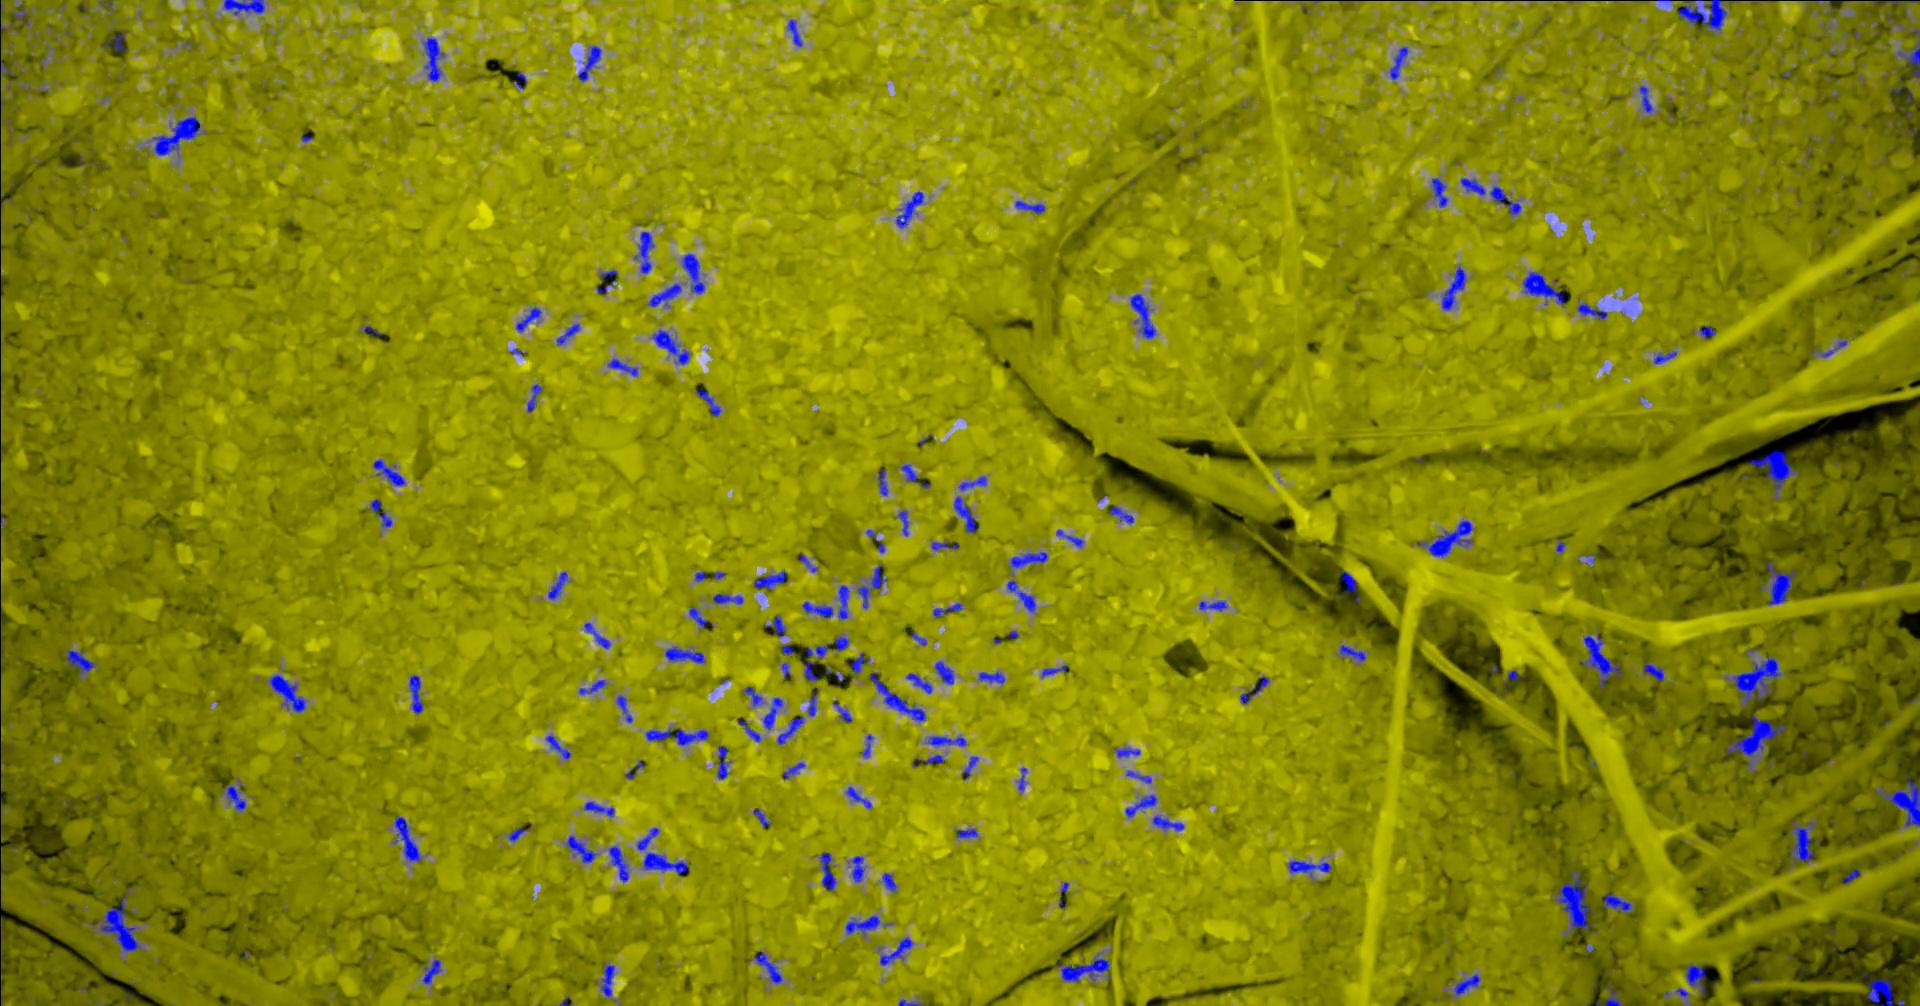ant: (1724, 715, 1785, 766), (869, 672, 924, 721), (97, 889, 141, 951), (1749, 448, 1796, 499), (1873, 775, 1919, 827), (1460, 177, 1521, 215), (1578, 634, 1622, 687), (1418, 518, 1472, 558), (152, 116, 199, 155), (1677, 0, 1735, 30), (1057, 950, 1110, 981), (1759, 561, 1796, 605), (265, 674, 306, 713), (1523, 271, 1564, 304), (392, 815, 422, 862), (651, 329, 690, 365), (856, 564, 886, 608), (1129, 293, 1156, 339), (645, 728, 709, 746), (1789, 821, 1815, 864), (1441, 265, 1465, 310), (1897, 28, 1919, 77), (895, 191, 923, 227), (1865, 978, 1903, 1005), (643, 852, 688, 874), (952, 495, 978, 533), (1006, 579, 1035, 612), (753, 951, 782, 984), (422, 37, 443, 81), (681, 253, 703, 293), (372, 459, 405, 486), (564, 835, 597, 862), (879, 937, 912, 965), (632, 231, 654, 273), (65, 649, 95, 677), (577, 44, 599, 81), (1239, 674, 1269, 702), (1008, 551, 1048, 572), (0, 36, 18, 80), (646, 283, 681, 306), (608, 845, 629, 882), (776, 716, 803, 744), (695, 387, 720, 417), (1125, 794, 1156, 817), (844, 915, 879, 935), (1869, 0, 1919, 14), (1810, 339, 1848, 357), (753, 570, 789, 589), (583, 622, 610, 648), (762, 697, 782, 730), (370, 498, 392, 527), (1288, 860, 1331, 875), (1603, 892, 1633, 913), (1684, 964, 1705, 995), (664, 647, 703, 663), (516, 306, 541, 332), (819, 852, 836, 890), (223, 0, 264, 15), (545, 735, 570, 760), (1340, 570, 1359, 602), (1453, 973, 1481, 995), (1389, 46, 1407, 79), (408, 674, 423, 713), (905, 672, 932, 694), (223, 784, 245, 810), (547, 572, 568, 600), (1430, 177, 1448, 207), (607, 358, 637, 376), (844, 786, 871, 807), (1055, 528, 1083, 547), (737, 718, 759, 741), (636, 827, 659, 850), (596, 269, 617, 293), (555, 323, 579, 344), (803, 601, 832, 619), (1576, 302, 1606, 319), (599, 964, 615, 997), (422, 959, 441, 984), (932, 602, 963, 617), (716, 746, 730, 779), (865, 528, 884, 553), (583, 801, 615, 815), (1152, 815, 1183, 829), (786, 19, 803, 46), (1338, 644, 1365, 661), (616, 695, 632, 721), (764, 615, 785, 636), (850, 652, 869, 674), (1109, 506, 1133, 523), (957, 475, 985, 490), (924, 735, 966, 746), (837, 586, 850, 619), (104, 29, 124, 50), (688, 606, 707, 627), (1642, 661, 1663, 680), (832, 700, 851, 721), (1015, 199, 1044, 213), (935, 661, 952, 683), (527, 384, 541, 412), (578, 680, 606, 694), (743, 686, 762, 706), (1604, 984, 1623, 1005), (782, 761, 804, 779), (1638, 85, 1652, 112), (805, 643, 829, 658), (900, 464, 919, 483), (797, 553, 817, 572), (623, 760, 643, 779), (1040, 664, 1068, 677), (977, 671, 1004, 683), (712, 593, 743, 605), (963, 756, 978, 779), (507, 826, 530, 841), (752, 808, 770, 827), (851, 855, 863, 882), (1125, 770, 1150, 782), (1015, 767, 1027, 791), (1114, 746, 1140, 757), (1197, 600, 1227, 610), (808, 687, 818, 716), (1653, 351, 1676, 363), (897, 511, 908, 536), (860, 735, 872, 758), (1841, 868, 1860, 883), (877, 467, 888, 495), (803, 661, 817, 681), (881, 873, 897, 890), (11, 4, 25, 22), (512, 71, 526, 89), (1698, 325, 1716, 339), (930, 541, 957, 550), (834, 635, 850, 650), (955, 828, 978, 838), (919, 754, 943, 763), (1507, 669, 1525, 680), (898, 998, 923, 1005), (0, 621, 1, 674), (0, 917, 1, 967)
